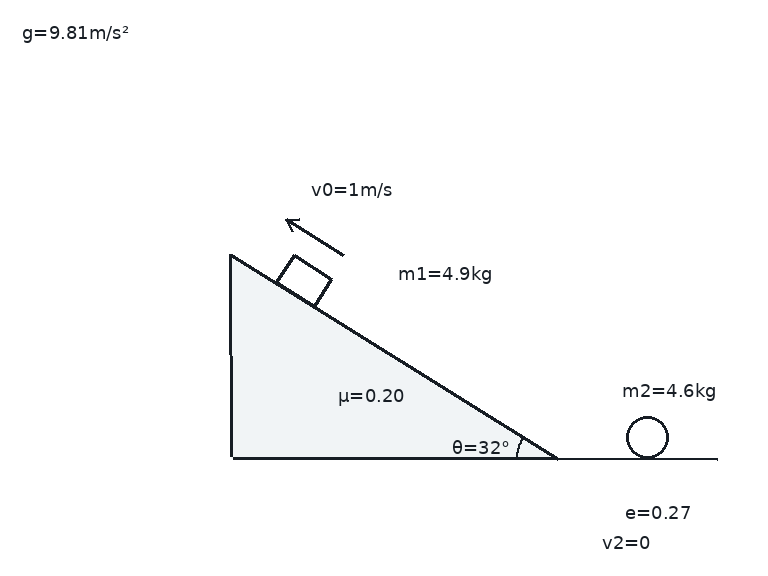ball: (624, 414, 670, 460)
block: (275, 253, 333, 308)
ramp: (229, 253, 559, 460)
